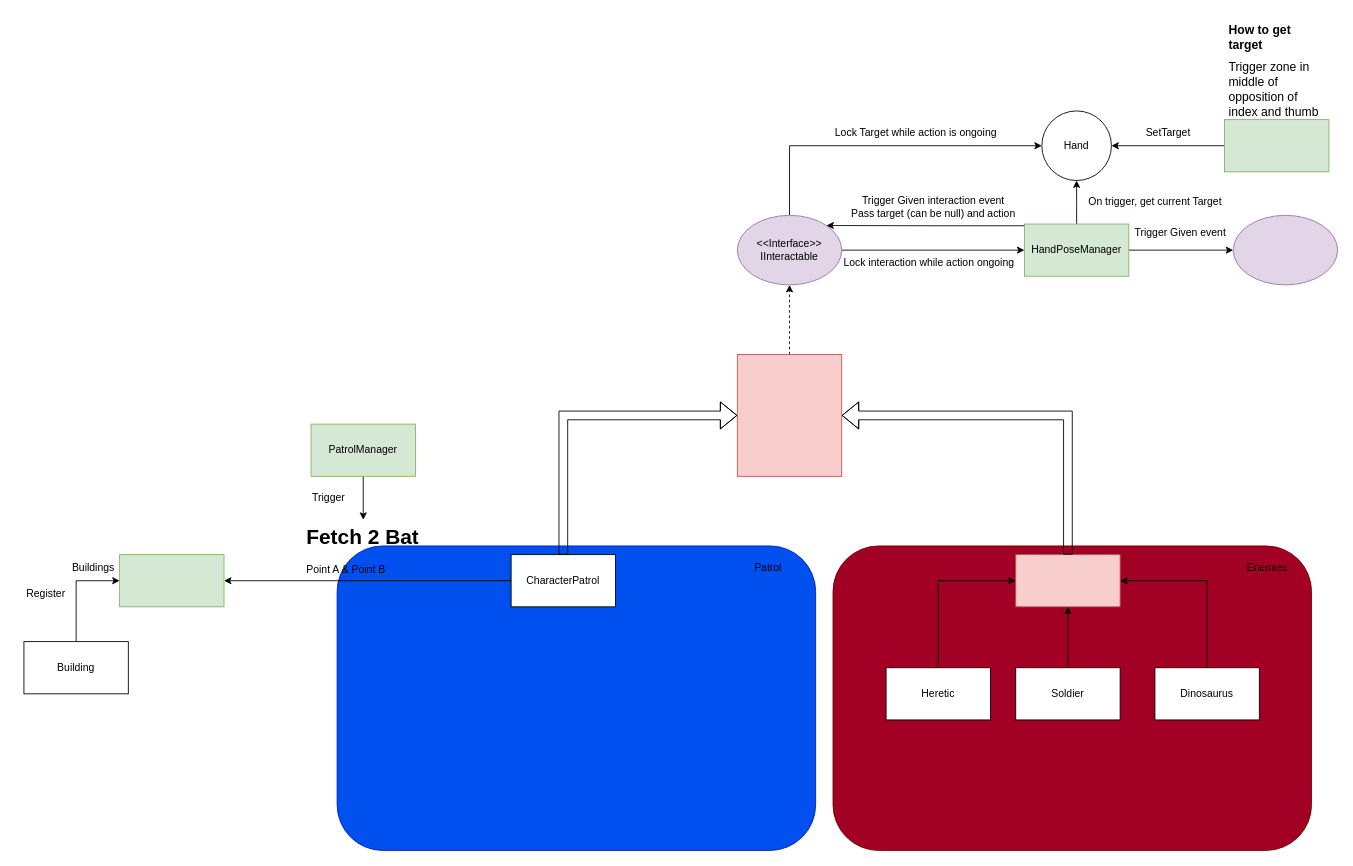
Some shapes in this 1353 by 866 pixel diagram are drawn without their labels. Here are the shapes that lost their labels. From the top down, the centre of each, then its label:
At (1276,145): "HandTarget".
At (1285,249): "<<Interface>> ISpell + Trigger + Stop".
At (789,415): "<<Abstract>> Character - name - sexe - Color - speed - navMeshAgent".
At (171,580): "BuildingManager".
At (1067,580): "<<Abstract>> Enemy".
